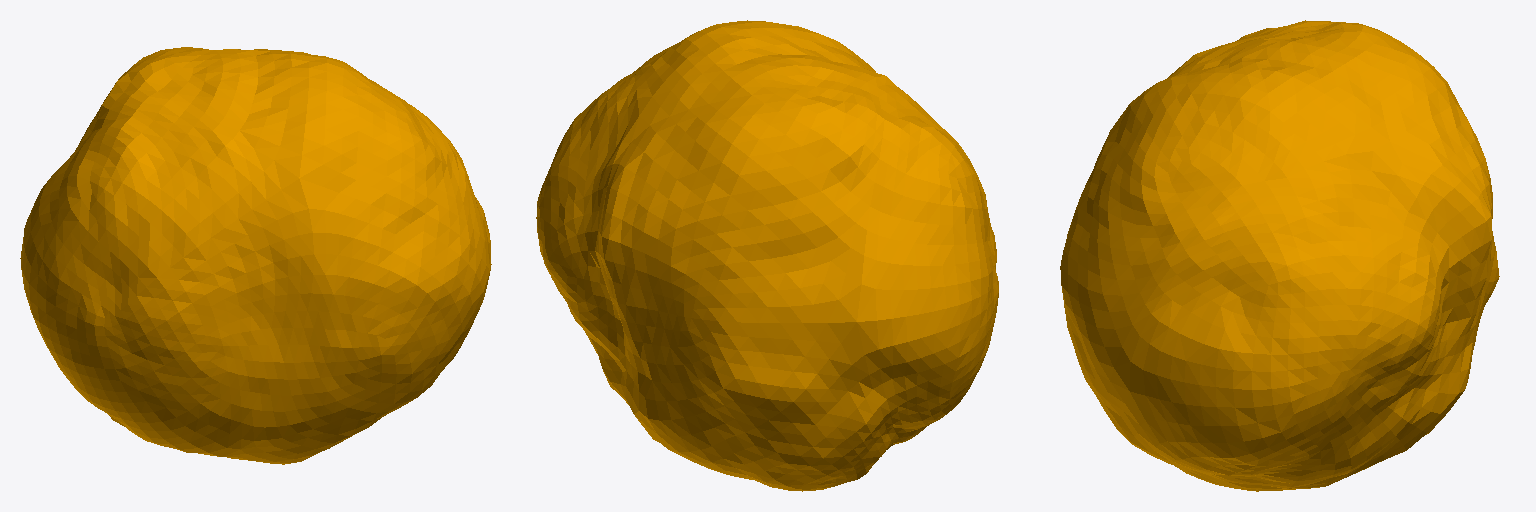
URDF robot description (rock):
<?xml version="1.0" ?>
<robot name="rock">
  <link name="rock">
    <inertial>
      <mass value="0.232"/>
      <origin rpy="0 0 0" xyz="0 0 0"/>
      <inertia ixx="0.000232" ixy="0" ixz="0" iyy="0.000232" iyz="0" izz="0.000232"/>
    </inertial>
    <collision name="rock_collision">
      <origin rpy="0 0 0" xyz="0 0 0"/>
      <geometry>
        <mesh filename="package://rocks/visual/135.dae" scale="1 1 1"/>
      </geometry>
    </collision>
    <visual name="rock_visual">
      <origin rpy="0 0 0" xyz="0 0 0"/>
      <geometry>
        <mesh filename="package://rocks/visual/135.dae" scale="1 1 1"/>
      </geometry>
    </visual>
  </link>
</robot>

--- Facts derived from the render (not from the file) ---
Views: 3 orthographic renders of the robot side by side, from view 1: azimuth 30°, elevation 25°; view 2: azimuth 150°, elevation 25°; view 3: azimuth 270°, elevation 25°.
Model rock with 1 links and 0 joints (none), rooted at rock, posed all joints at 0.
Links seen in each view (by area): view 1: rock; view 2: rock; view 3: rock.
Link boxes in pixels (x1,y1,x2,y2): rock: (20,47,491,464); rock: (536,20,998,491); rock: (1060,20,1499,491).
Size in the robot's own frame: 0.0917 by 0.0764 by 0.0814 metres.
Meshes: 1 distinct files referenced, 1 mesh visuals loaded (1 Collada DAE).